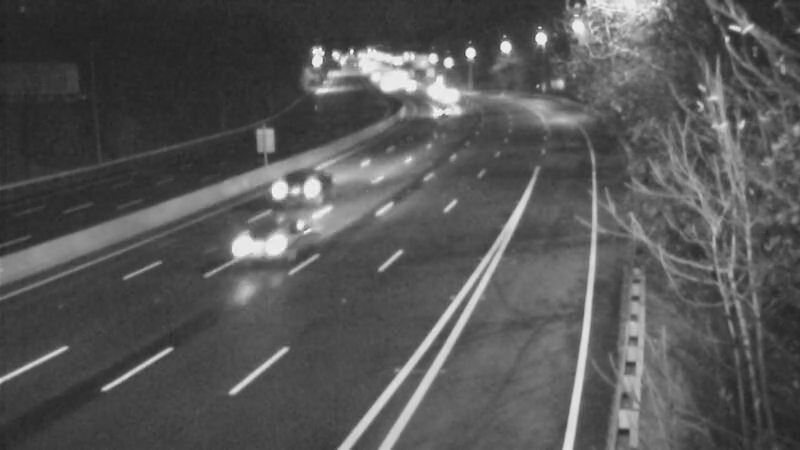vehicle: (261, 145, 341, 225), (218, 196, 298, 276), (401, 62, 451, 112), (426, 72, 476, 122), (418, 85, 468, 135)
